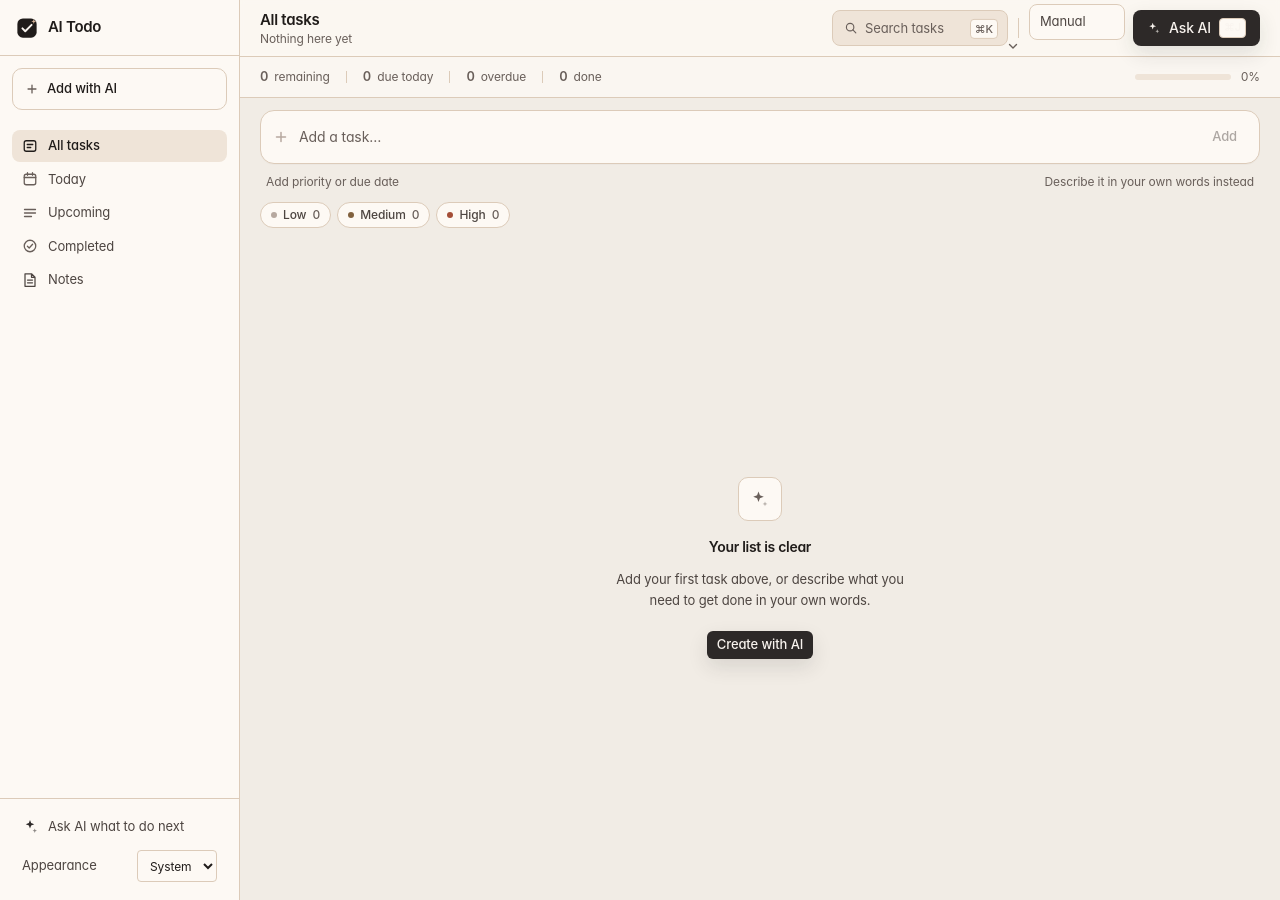
Test: create a task › adds a task typed into the composer
Expected: the heading "Your list is clear" is shown, [709,537,811,557]
In the field with placeholder "Add a task…": (746, 136) [299,116,1192,156], type "Buy groceries"
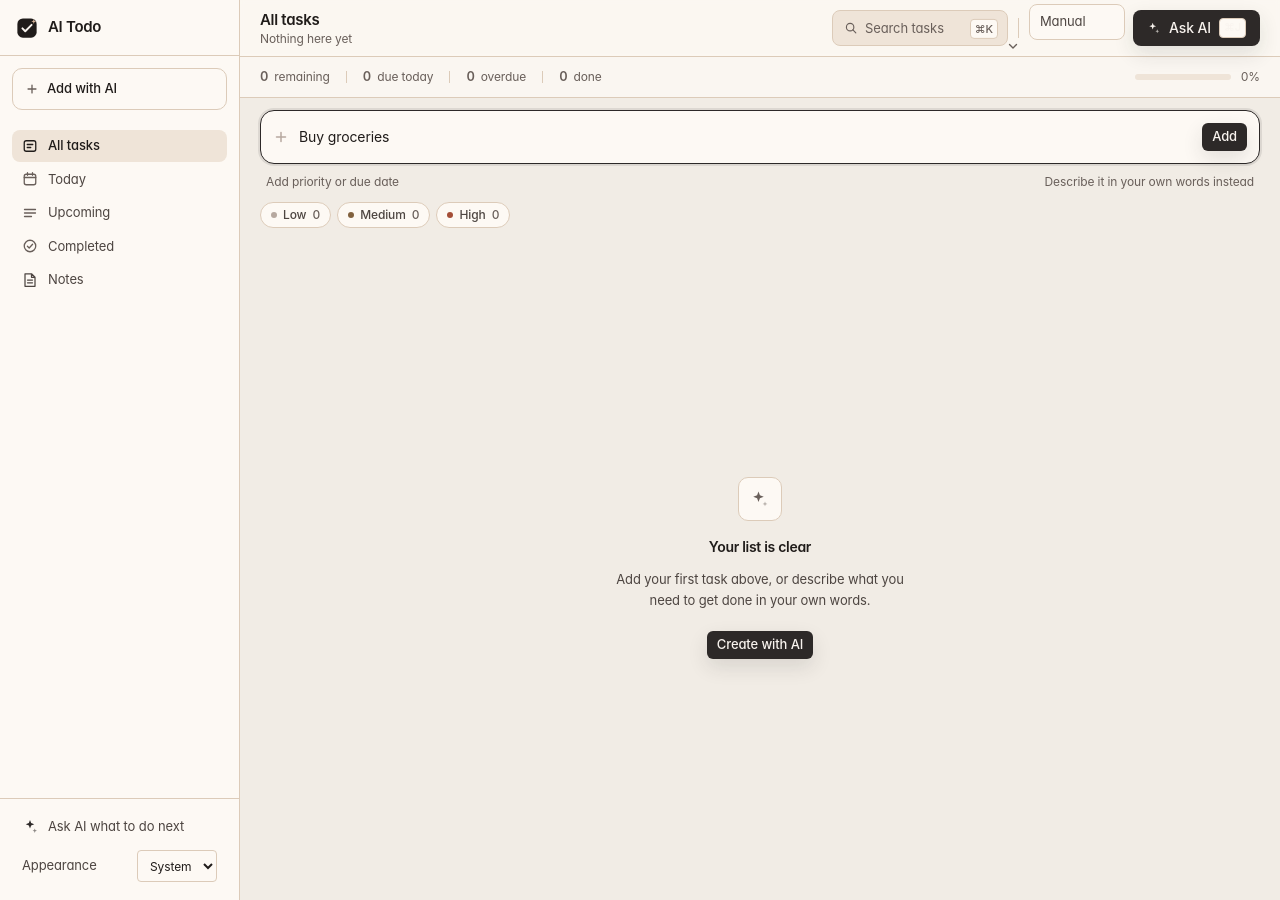
Click the button "Add": (1225, 136) [1202,122,1247,150]
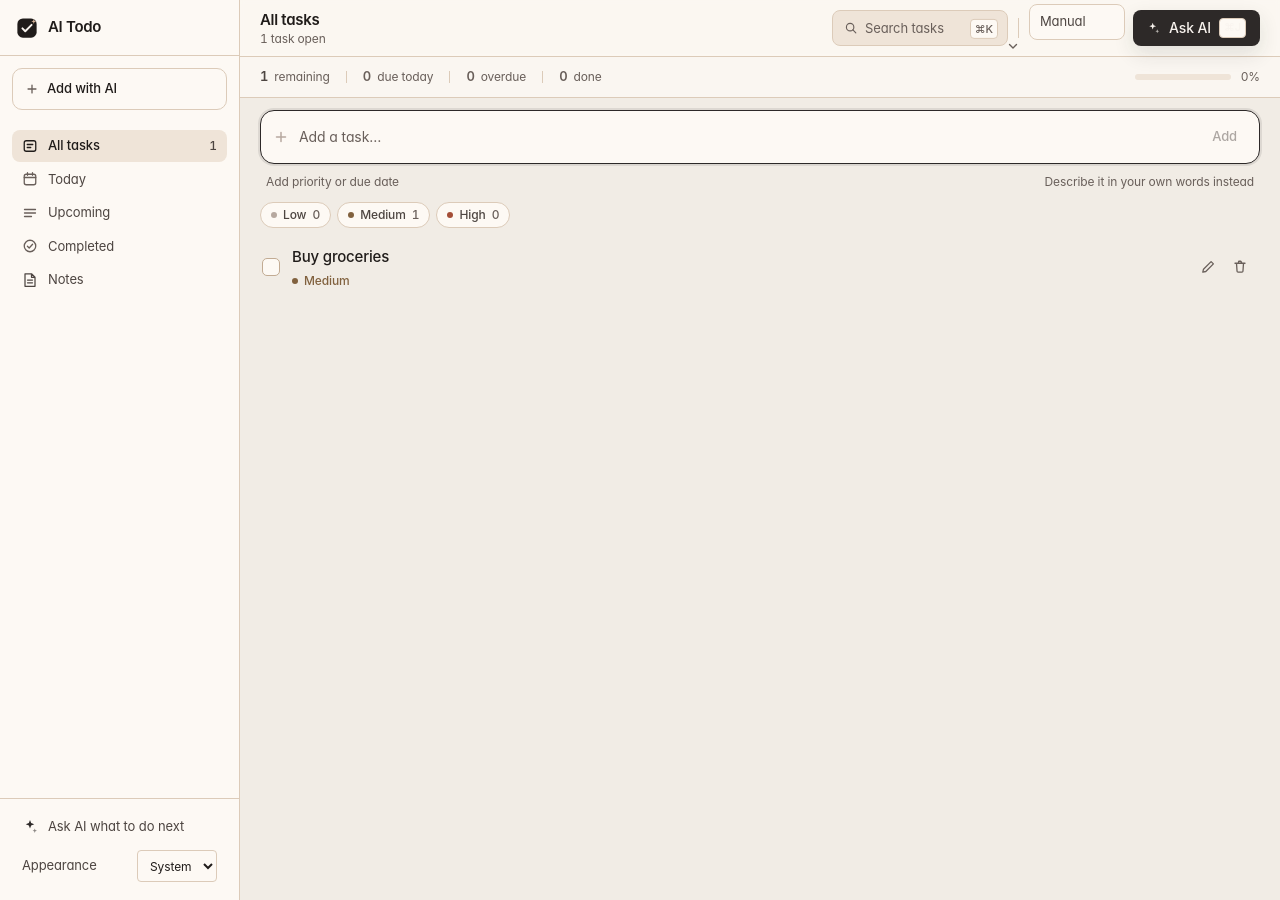
Now the text "Buy groceries" is shown, box [292,246,389,266]
